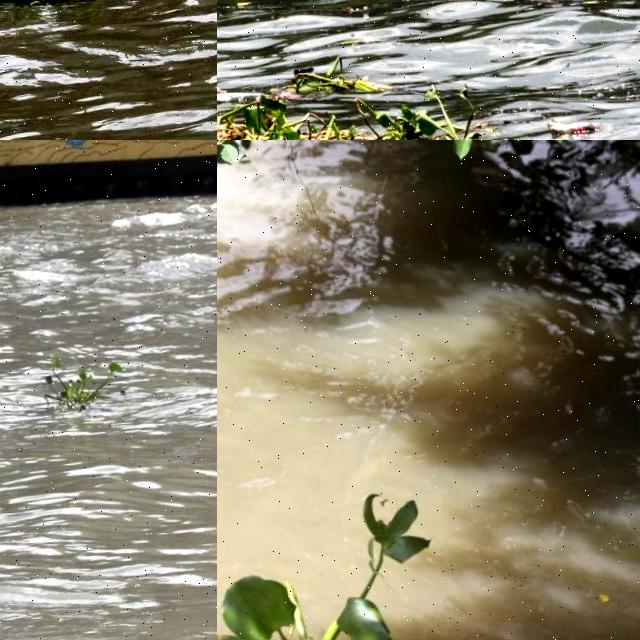water-hyacinth: (218, 493, 440, 640), (218, 56, 532, 141), (43, 363, 125, 414)
